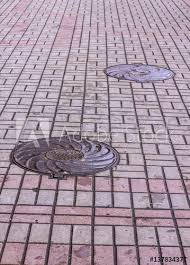Manhole-Closed: (10, 130, 137, 182), (104, 57, 182, 87)
